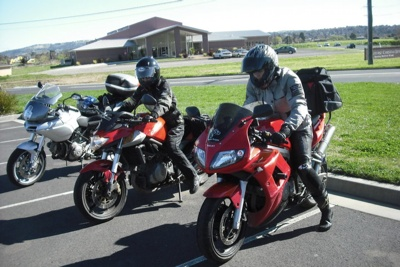helmet: (236, 40, 284, 93), (131, 54, 165, 92)
